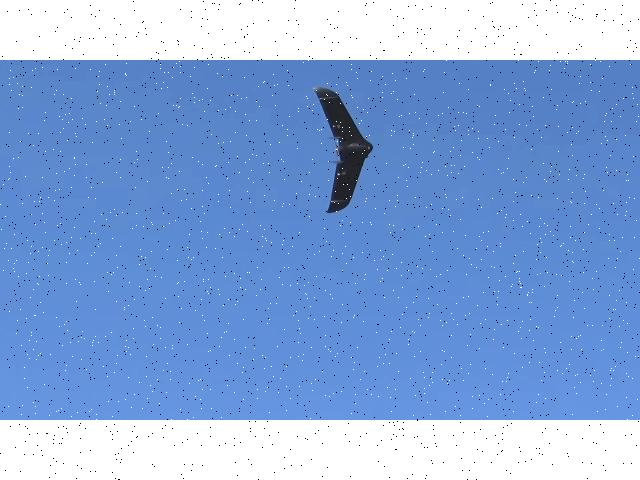Anti-Drone: (294, 86, 410, 222)
